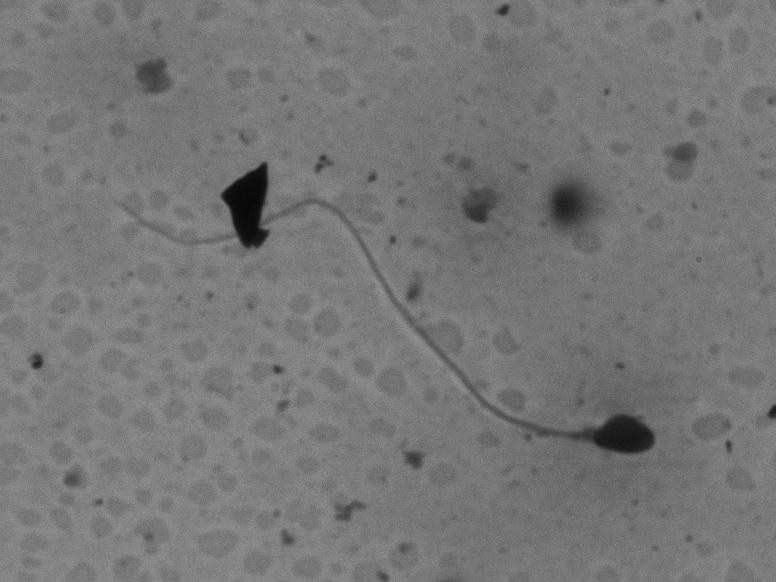Abnormal: (98, 168, 667, 470)
